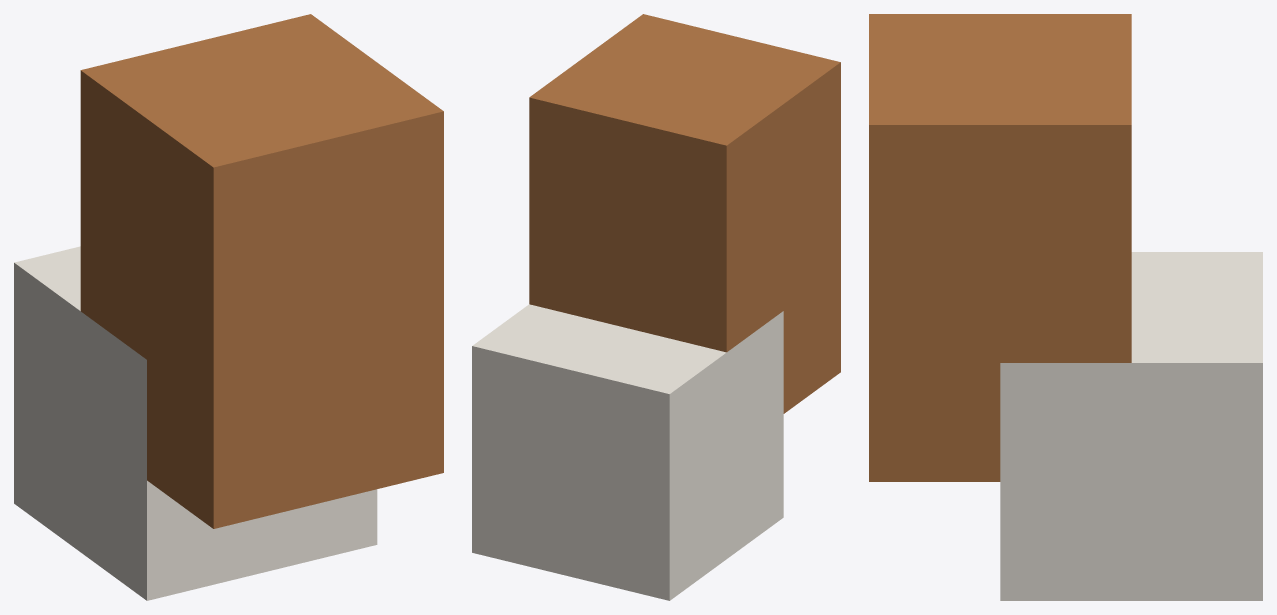
File: fawn__tail.glb
3 views of the same model, side by side, from view 1: azimuth 30°, elevation 25°; view 2: azimuth 150°, elevation 25°; view 3: azimuth 270°, elevation 25° (orthographic). The views are drawn at different scales.
Parts seen in each view (by area): view 1: fawn__tail; view 2: fawn__tail; view 3: fawn__tail.
Part boxes in pixels (<box>): fawn__tail: <box>14,14,443,600</box>; fawn__tail: <box>472,14,840,600</box>; fawn__tail: <box>869,14,1262,600</box>.
Size of the model in its own units: 0.2 by 0.4 by 0.3.
Materials: 1 (1 with a texture image).
